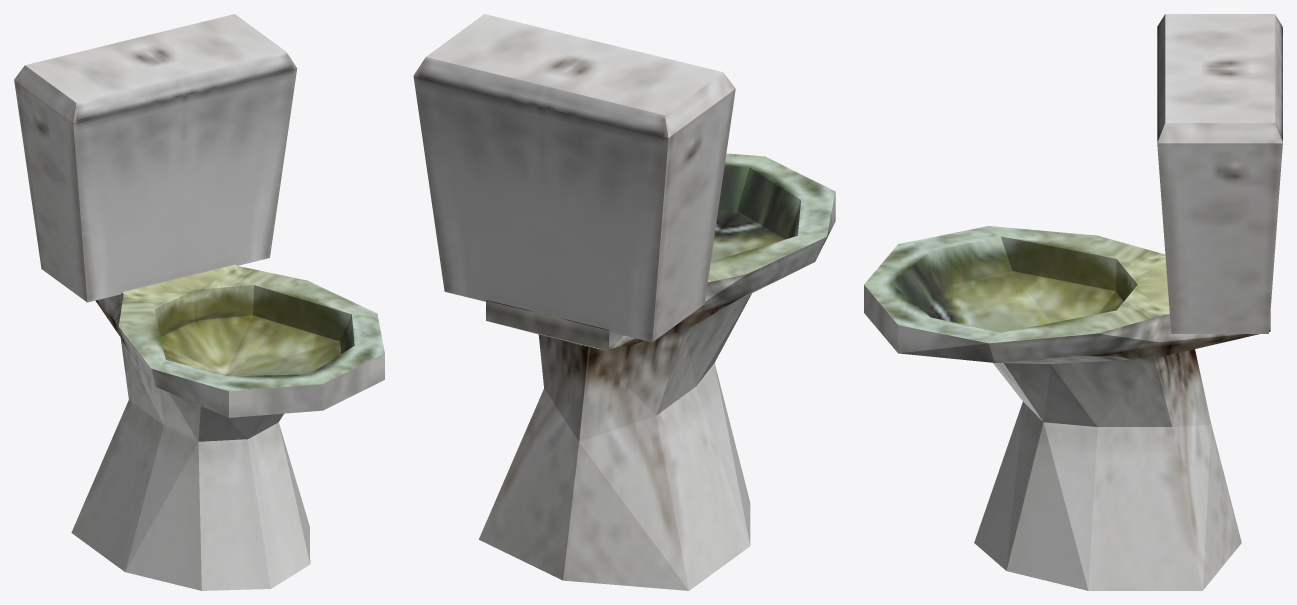
Rendered from toilet.fbx.
3 renders of one model, left to right at view 1: azimuth 30°, elevation 25°; view 2: azimuth 150°, elevation 25°; view 3: azimuth 270°, elevation 25°, orthographic. The views are drawn at different scales.
Visible parts, largest first — view 1: Toilet; view 2: Toilet; view 3: Toilet.
Boxes of the visible parts, left/top/right/bottom form: Toilet: left=14, top=14, right=384, bottom=590; Toilet: left=413, top=14, right=835, bottom=590; Toilet: left=864, top=14, right=1282, bottom=590.
Size of the model in its own units: 61.46 by 116 by 92.69.
1 material, 1 textured.
